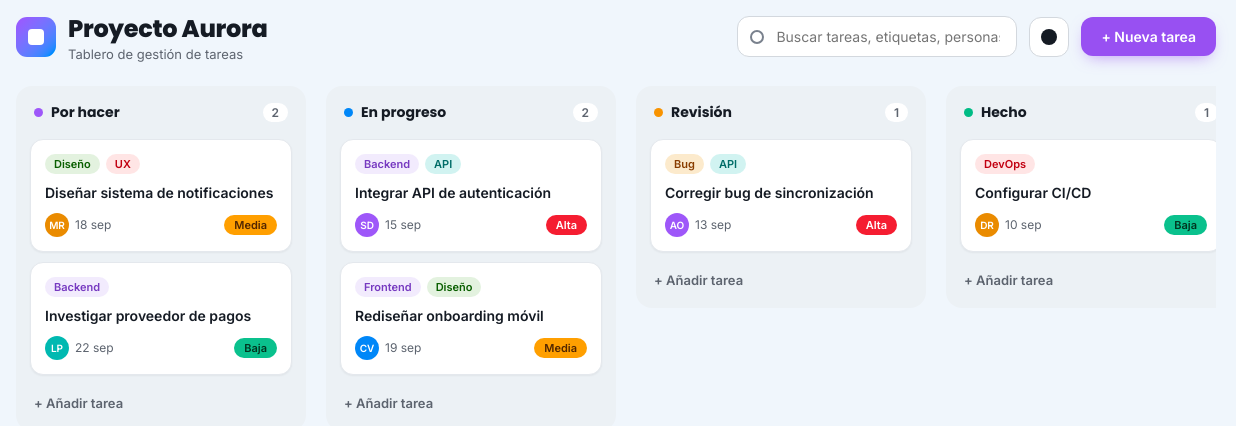
Search filtering › narrows visible cards by title, tag, or assignee name
Type "pagos" into the field with placeholder "Buscar tareas, etiquetas, personas..." at [877, 36], box [737, 16, 1017, 57]
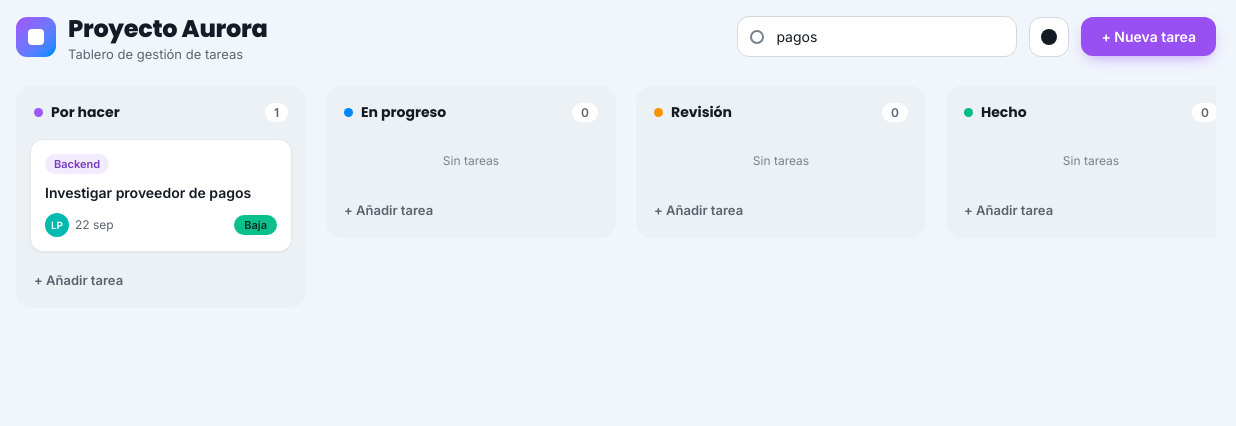
Expected: the text "Investigar proveedor de pagos" is shown, [45, 184, 277, 203]
Result: the text "Configurar CI/CD" is gone
Replace the text in the field with placeholder "Buscar tareas, etiquetas, personas..." with "devops" at [877, 36], box [737, 16, 1017, 57]
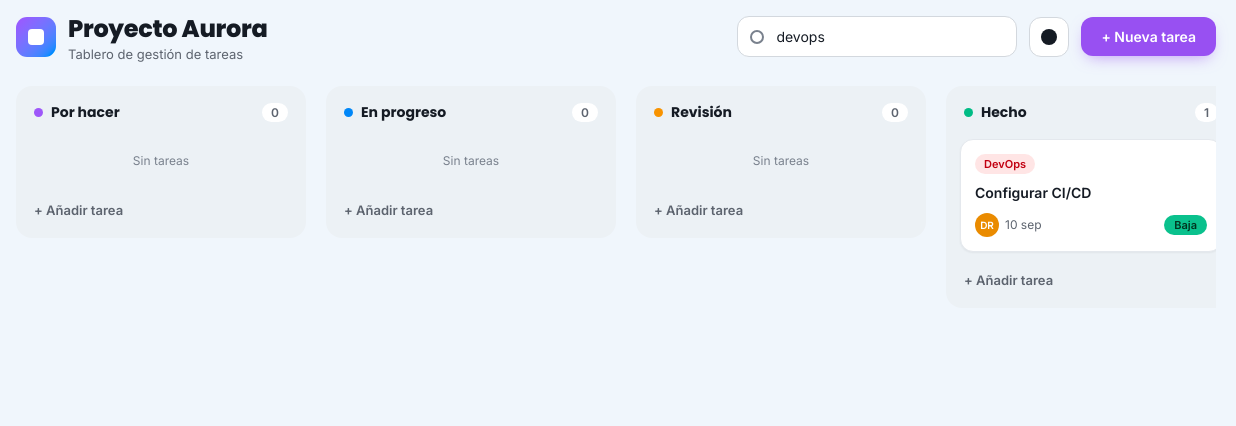
Expected: the text "Investigar proveedor de pagos" is not shown
Result: the text "Configurar CI/CD" is shown at [975, 184, 1091, 201]
Replace the text in the field with placeholder "Buscar tareas, etiquetas, personas..." with "marta" at [877, 36], box [737, 16, 1017, 57]
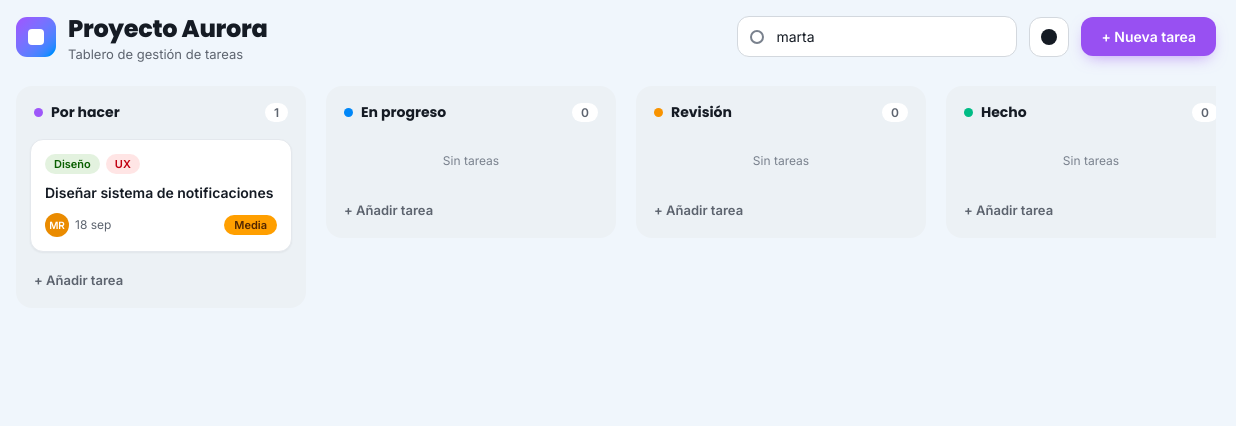
Result: the text "Diseñar sistema de notificaciones" is shown at [45, 184, 277, 203]
Result: the text "Configurar CI/CD" is gone
